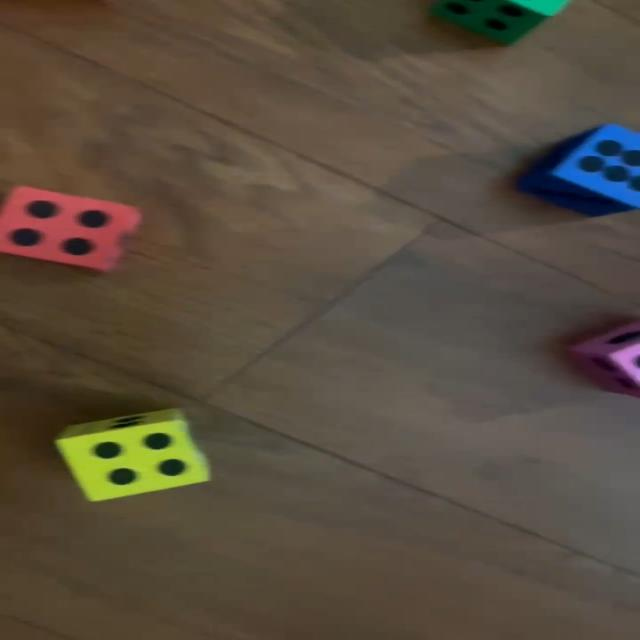blue_block: (522, 125, 640, 215)
red_block: (0, 188, 143, 272)
